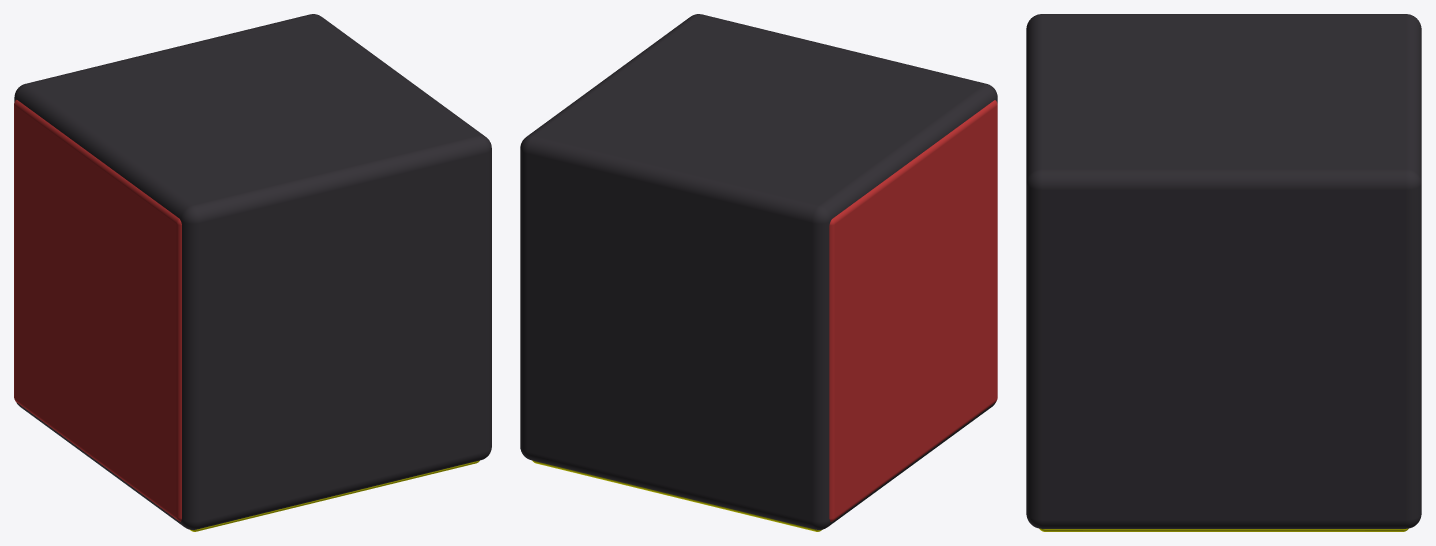
File: yrEdge.obj
The picture shows the model from 3 angles, left to right: view 1: azimuth 30°, elevation 25°; view 2: azimuth 150°, elevation 25°; view 3: azimuth 270°, elevation 25°; orthographic projection. The views are drawn at different scales.
Visible parts, largest first — view 1: 000_Base, 001_red, 002_yellow; view 2: 000_Base, 001_red, 002_yellow; view 3: 000_Base, 002_yellow.
Part boxes in pixels (bbox=[...]): 000_Base: bbox=[14, 14, 491, 529]; 001_red: bbox=[14, 99, 181, 521]; 002_yellow: bbox=[190, 460, 479, 531]; 000_Base: bbox=[520, 14, 997, 529]; 001_red: bbox=[829, 100, 997, 521]; 002_yellow: bbox=[532, 460, 822, 531]; 000_Base: bbox=[1026, 14, 1421, 528]; 002_yellow: bbox=[1039, 528, 1408, 531].
Size of the model in its own units: 101 by 101 by 100.
